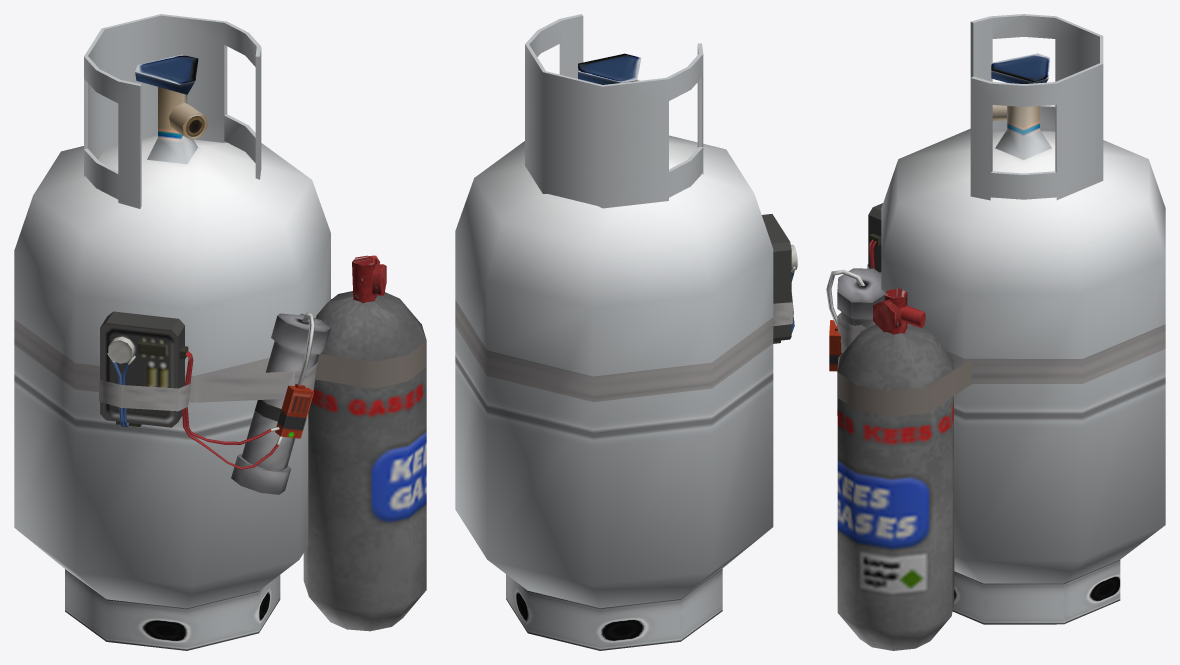
Rendered from OxyPropaneBombTrigger_Mesh.fbx.
3 renders of one model, left to right at view 1: azimuth 30°, elevation 25°; view 2: azimuth 150°, elevation 25°; view 3: azimuth 270°, elevation 25°, orthographic. The views are drawn at different scales.
Parts seen in each view (by area): view 1: Oxy0PropaneTankBombTrigger; view 2: Oxy0PropaneTankBombTrigger; view 3: Oxy0PropaneTankBombTrigger.
Part boxes in pixels (x1,y1,x2,y2): Oxy0PropaneTankBombTrigger: (14, 14, 426, 650); Oxy0PropaneTankBombTrigger: (455, 14, 797, 650); Oxy0PropaneTankBombTrigger: (826, 14, 1165, 650).
Bounding box in the file's own units: 66 × 114 × 65.3.
